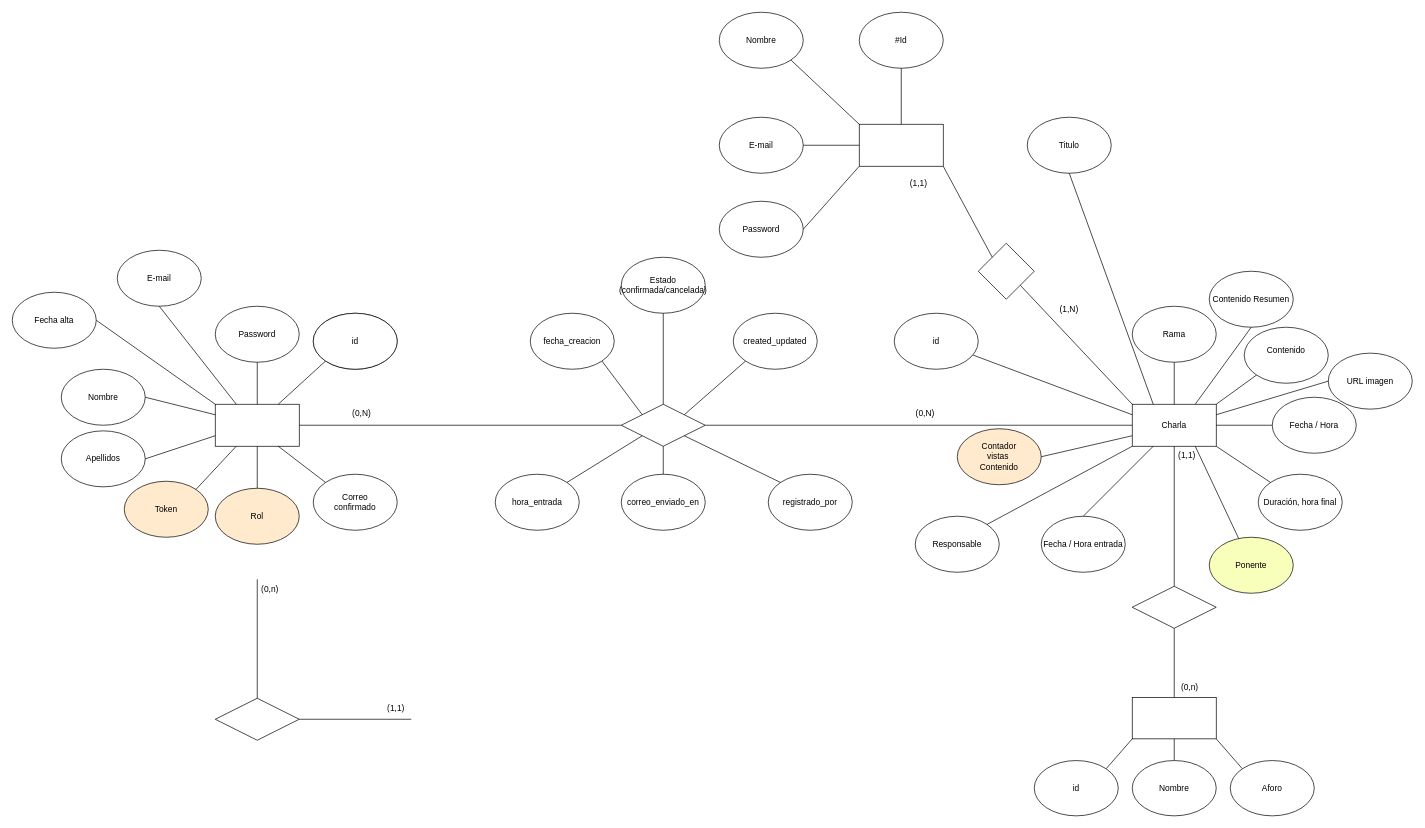
Some shapes in this 1425 by 828 pixel diagram are drawn without their labels. The shapes that lost their labels are listed below. From the top down, each one's centre as x and y in pixels, then its label:
point 901,145: Ponentes
point 1006,271: Impartir
point 257,425: Usuario
point 663,425: reservar
point 1174,607: Se Realiza
point 257,719: Registra
point 1174,718: Sala
